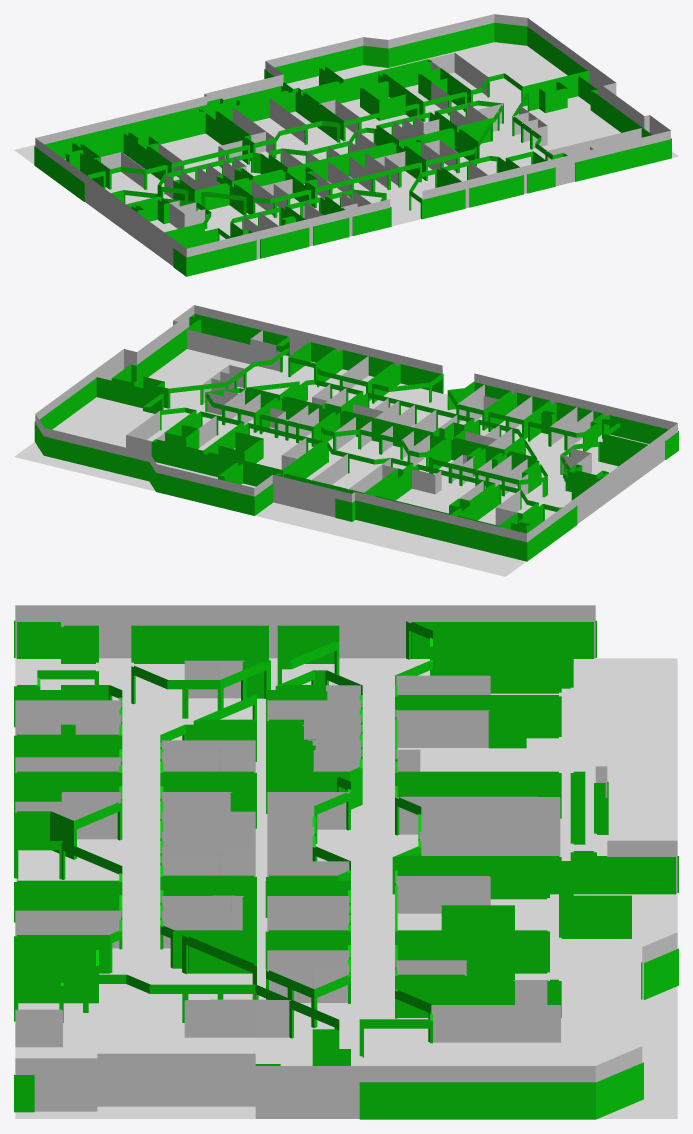
File: DSFDMap_1f.fbx
3 renders of one model, top to bottom at view 1: azimuth 30°, elevation 25°; view 2: azimuth 150°, elevation 25°; view 3: azimuth 270°, elevation 25°, orthographic. The views are drawn at different scales.
Parts seen in each view (by area): view 1: 1f_frame, 1f_floor, 1f_outLine, 1f_wall; view 2: 1f_frame, 1f_floor, 1f_wall, 1f_outLine; view 3: 1f_frame, 1f_floor, 1f_wall, 1f_outLine.
Boxes of the visible parts, <box> form: 1f_frame: <box>34,22,671,276</box>; 1f_floor: <box>14,42,678,240</box>; 1f_outLine: <box>35,14,670,266</box>; 1f_wall: <box>100,53,641,232</box>; 1f_frame: <box>34,314,678,561</box>; 1f_floor: <box>14,349,648,576</box>; 1f_wall: <box>126,329,593,525</box>; 1f_outLine: <box>35,305,677,542</box>; 1f_frame: <box>14,620,678,1119</box>; 1f_floor: <box>15,658,677,1118</box>; 1f_wall: <box>15,660,560,1047</box>; 1f_outLine: <box>15,605,677,1118</box>.
Bounding box in the file's own units: 18650 × 1000 × 11350.
